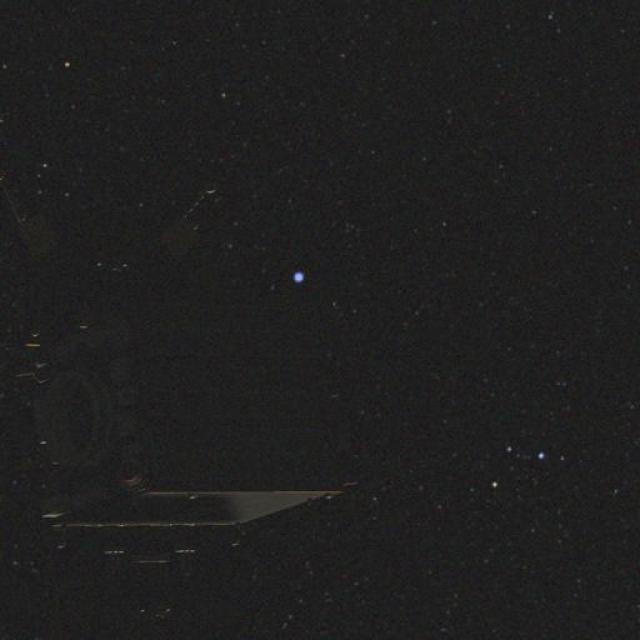proba_2: (0, 242, 398, 569)
